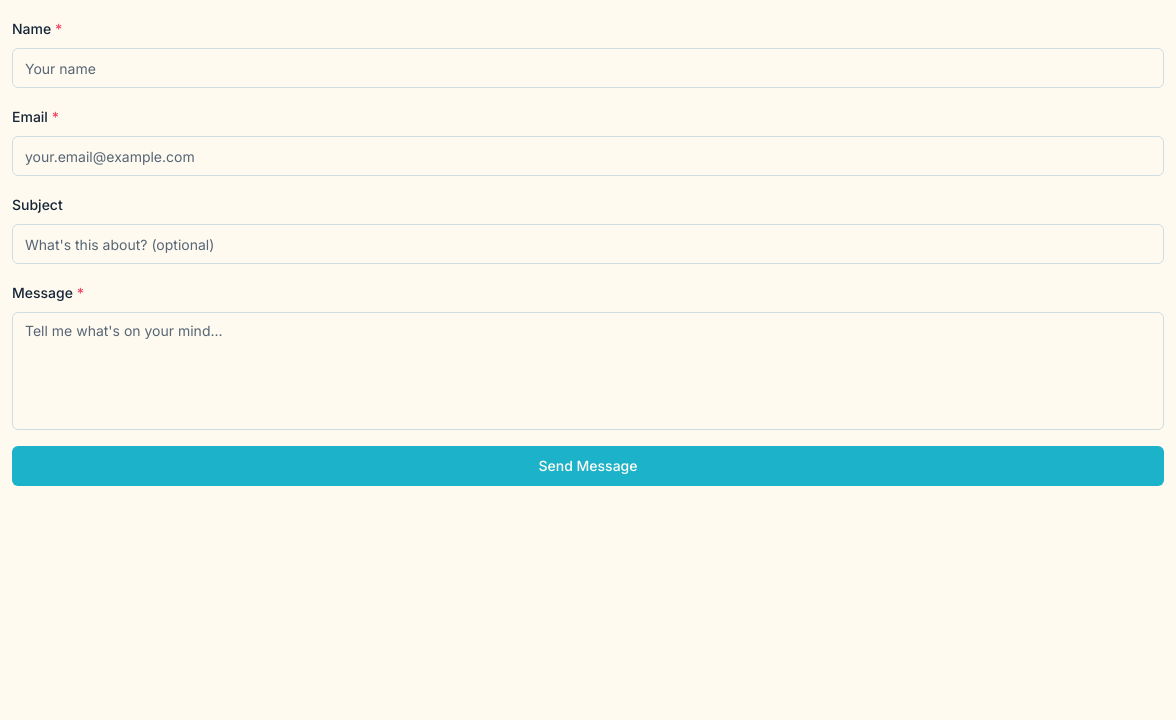
ContactForm › Form Submission › shows success message on successful submission
The width and height of the screenshot is (1176, 720).
Type "John" into the field labelled "Name *". click: (588, 68)
box: [12, 48, 1164, 88]
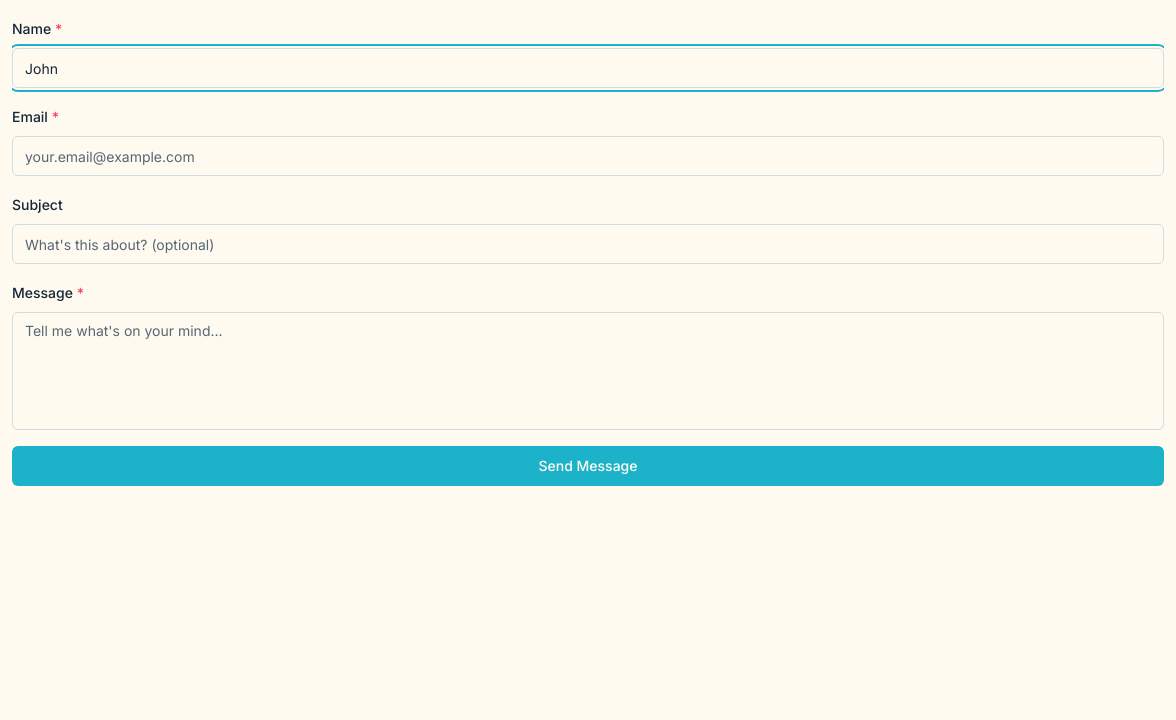
Type "john@example.com" into the field labelled "Email *". click: (588, 156)
box: [12, 136, 1164, 176]
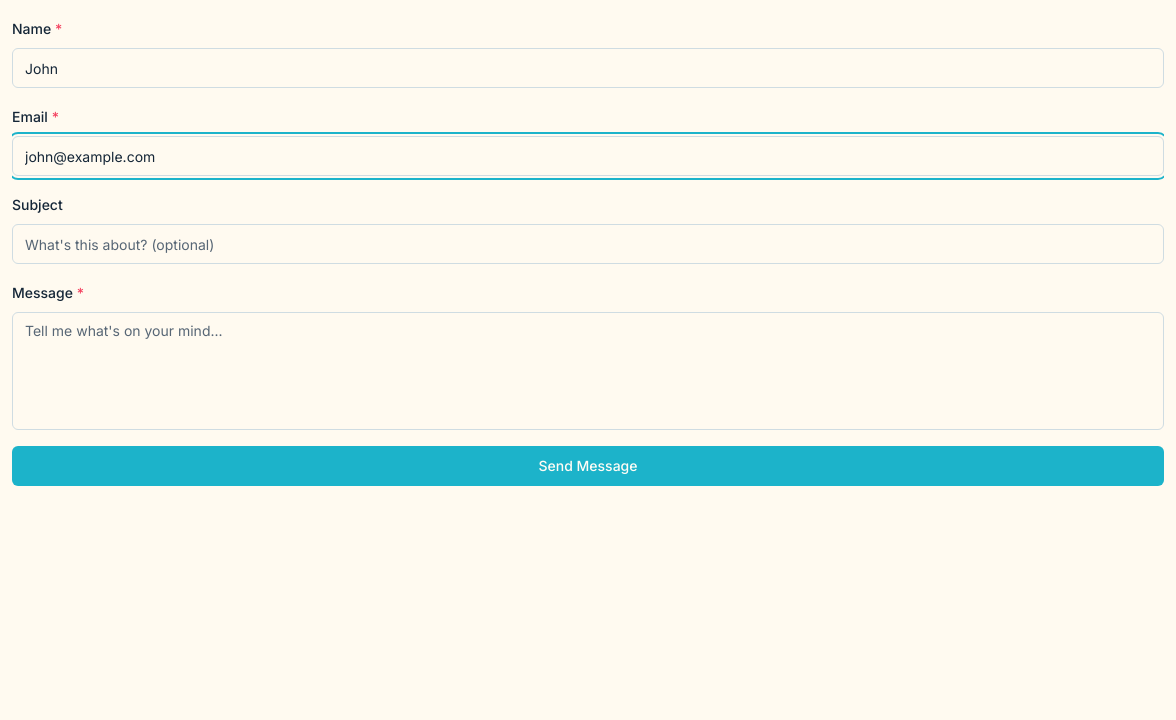
Type "Message" into the text box labelled "Message *". click: (588, 371)
box: [12, 312, 1164, 430]
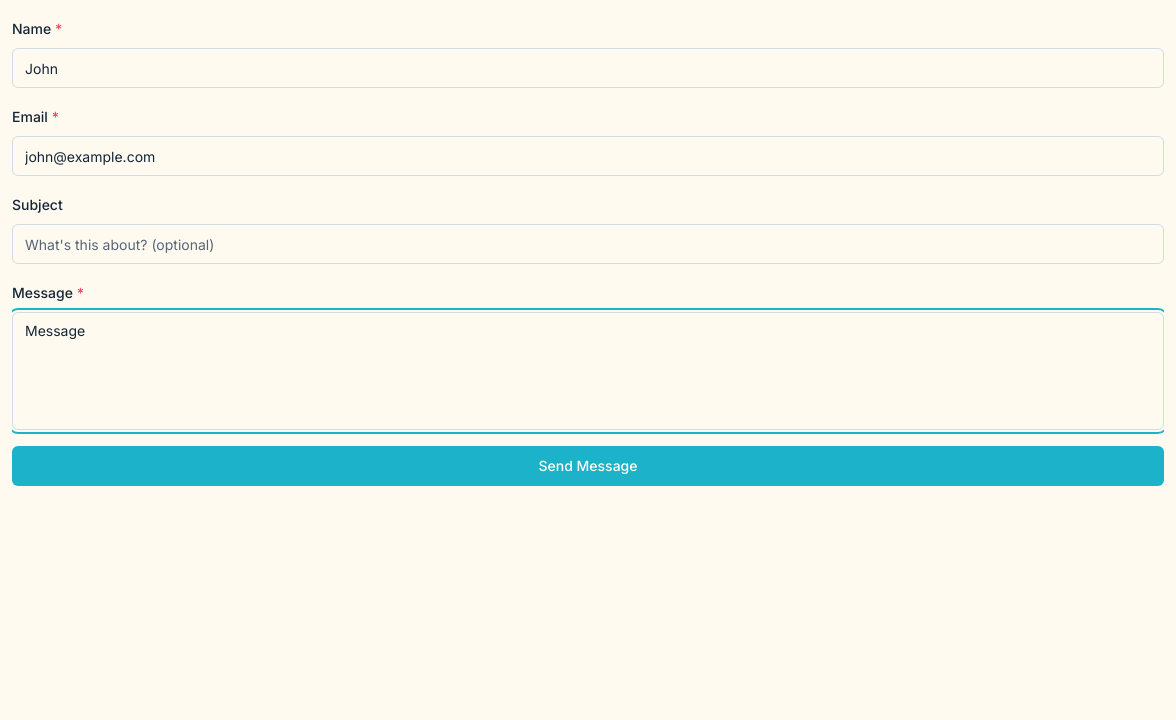
Click the button "Send Message". click: (588, 466)
box: [12, 446, 1164, 486]
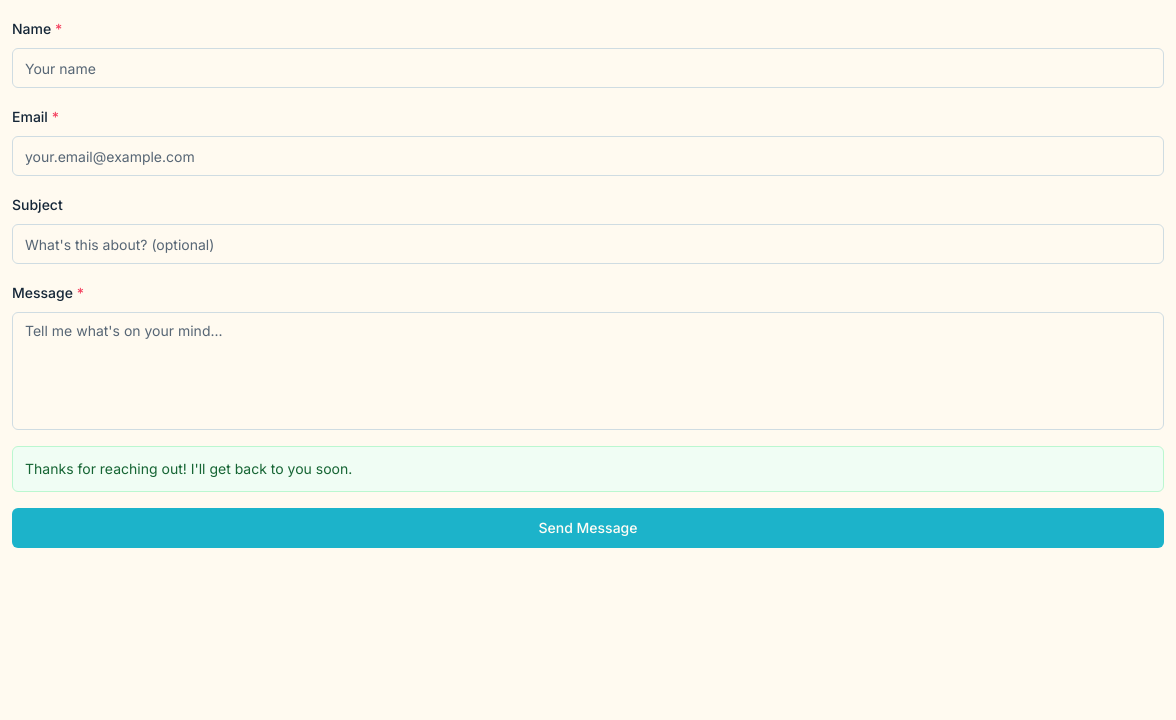
Now the text "Thanks for reaching out! I'll get back to you soon." is shown, box [12, 446, 1164, 492]
